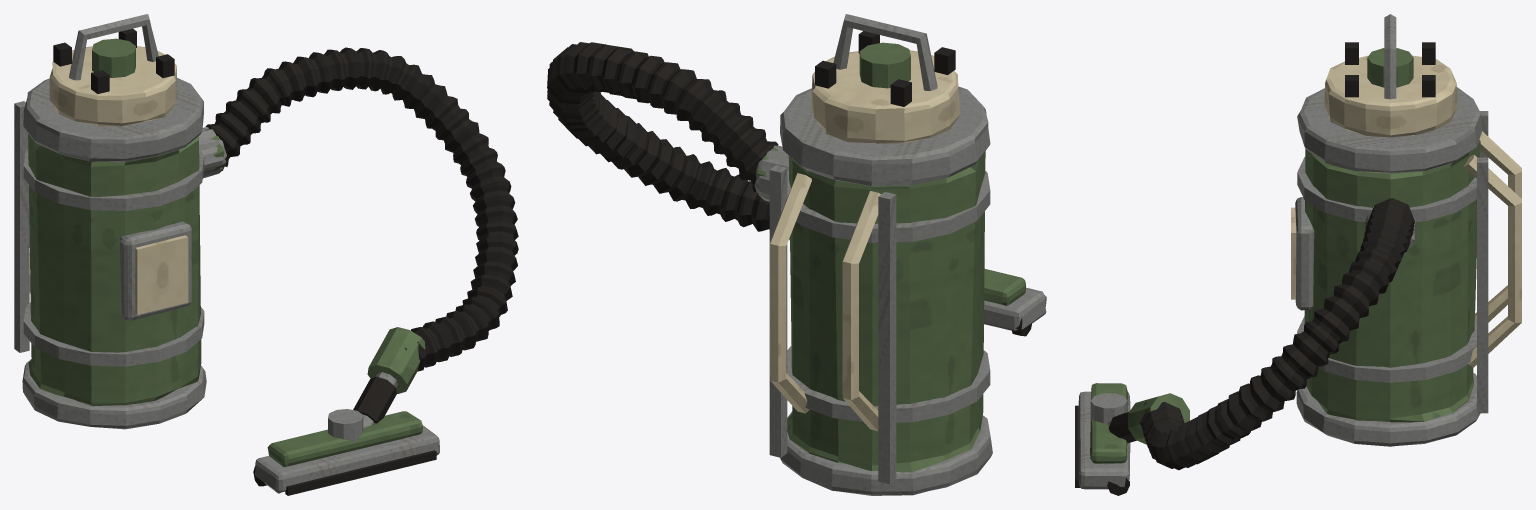
File: hay_vacuum_hose.glb
3 views of the same model, side by side, from view 1: azimuth 30°, elevation 25°; view 2: azimuth 150°, elevation 25°; view 3: azimuth 270°, elevation 25° (orthographic). The views are drawn at different scales.
Visible parts, largest first — view 1: HayVacuumHose; view 2: HayVacuumHose; view 3: HayVacuumHose.
Part boxes in pixels (left/top/right/bottom): HayVacuumHose: left=14, top=14, right=518, bottom=495; HayVacuumHose: left=547, top=14, right=1046, bottom=495; HayVacuumHose: left=1075, top=14, right=1521, bottom=495.
Bounding box in the file's own units: 1.06 × 0.9055 × 0.9691.
4 materials, 3 textured.
